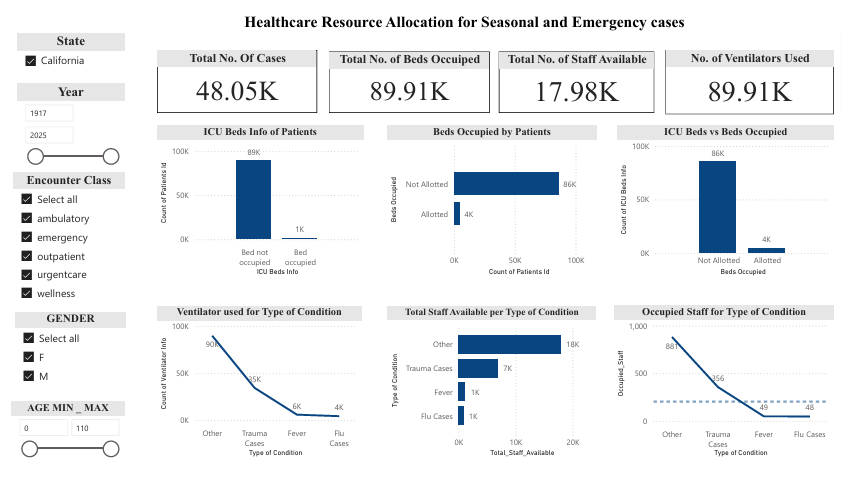

Layout of this report page (visuals, bound fields, positions):
{"tool":"powerbi","page":{"name":"Resources Info ","canvas":[1280,720],"ordinal":0},"visuals":[{"type":"slicer","title":"State","fields":{"Values":["patients.STATE"]},"box":[10.2,35.1,165.4,61.5],"z":0},{"type":"slicer","title":"Encounter Class","fields":{"Values":["encounters.ENCOUNTERCLASS"]},"box":[4.4,250.2,171.2,207.8],"z":1000},{"type":"slicer","title":"GENDER","fields":{"Values":["patients.GENDER"]},"box":[6.6,466.3,171.4,127.5],"z":2000},{"type":"slicer","title":"AGE MIN _ MAX","fields":{"Values":["patients.AGE"]},"box":[1.5,602.9,174.1,98],"z":3000},{"type":"slicer","title":"Year","fields":{"Values":["encounters.Year"]},"box":[10,112.9,165.7,128.6],"z":4000},{"type":"card","title":"Total No. Of Cases","fields":{"Values":["CountNonNull(conditions.Patients Id)"]},"box":[225.7,61.4,247.1,97],"z":5000},{"type":"card","title":"Total No. of Beds Occuiped","fields":{"Values":["CountNonNull(encounters.Beds Occupied)"]},"box":[491.1,63.3,247.8,94.4],"z":6000},{"type":"card","title":"Total No. of Staff Available ","fields":{"Values":["conditions.Total_Staff_Available"]},"box":[753.3,63.3,240,94.4],"z":7000},{"type":"card","title":"No. of Ventilators Used","fields":{"Values":["CountNonNull(encounters.Ventilator Info)"]},"box":[1010,61.4,260,98.6],"z":8000},{"type":"columnChart","title":"ICU Beds vs Beds Occupied","fields":{"Category":["encounters.Beds Occupied"],"Y":["CountNonNull(encounters.ICU Beds Info)"]},"box":[936.2,177.5,333.8,235],"z":9000},{"type":"barChart","title":"Total Staff Available per Type of Condition","fields":{"Y":["conditions.Total_Staff_Available"],"Category":["conditions.Type of Condition"]},"box":[581.8,457,321.5,236.5],"z":10000},{"type":"lineChart","title":"Occupied Staff for Type of Condition","fields":{"Y":["encounters.Occupied_Staff"],"Category":["conditions.Type of Condition"]},"box":[931.2,455,338.8,237.5],"z":11000},{"type":"lineChart","title":" Ventilator used for Type of Condition","fields":{"Y":["CountNonNull(encounters.Ventilator Info)"],"Category":["conditions.Type of Condition"]},"box":[225.8,455.6,314.8,236.5],"z":12000},{"type":"textbox","box":[266,0,873.7,41.5],"z":13000},{"type":"columnChart","title":"ICU Beds Info of Patients","fields":{"Y":["CountNonNull(encounters.Patients Id)"],"Category":["encounters.ICU Beds Info"]},"box":[226.2,177.5,317.5,235],"z":16000},{"type":"barChart","title":"Beds Occupied by Patients ","fields":{"Category":["encounters.Beds Occupied"],"Y":["CountNonNull(encounters.Patients Id)"]},"box":[581.2,177.5,322.5,235],"z":17000}]}

Visuals, with their boxes in screenshot pixels (x1, y1, x2, y2), scaled from the page's 1280x720 canvas onto the 849x481 screenshot:
"State" slicer: region(7, 23, 116, 65)
"Encounter Class" slicer: region(3, 167, 116, 306)
"GENDER" slicer: region(4, 312, 118, 397)
"AGE MIN _ MAX" slicer: region(1, 403, 116, 468)
"Year" slicer: region(7, 75, 117, 161)
"Total No. Of Cases" card: region(150, 41, 314, 106)
"Total No. of Beds Occuiped" card: region(326, 42, 490, 105)
"Total No. of Staff Available " card: region(500, 42, 659, 105)
"No. of Ventilators Used" card: region(670, 41, 842, 107)
"ICU Beds vs Beds Occupied" columnChart: region(621, 119, 842, 276)
"Total Staff Available per Type of Condition" barChart: region(386, 305, 599, 463)
"Occupied Staff for Type of Condition" lineChart: region(618, 304, 842, 463)
" Ventilator used for Type of Condition" lineChart: region(150, 304, 359, 462)
textbox: region(176, 0, 756, 28)
"ICU Beds Info of Patients" columnChart: region(150, 119, 361, 276)
"Beds Occupied by Patients " barChart: region(385, 119, 599, 276)
